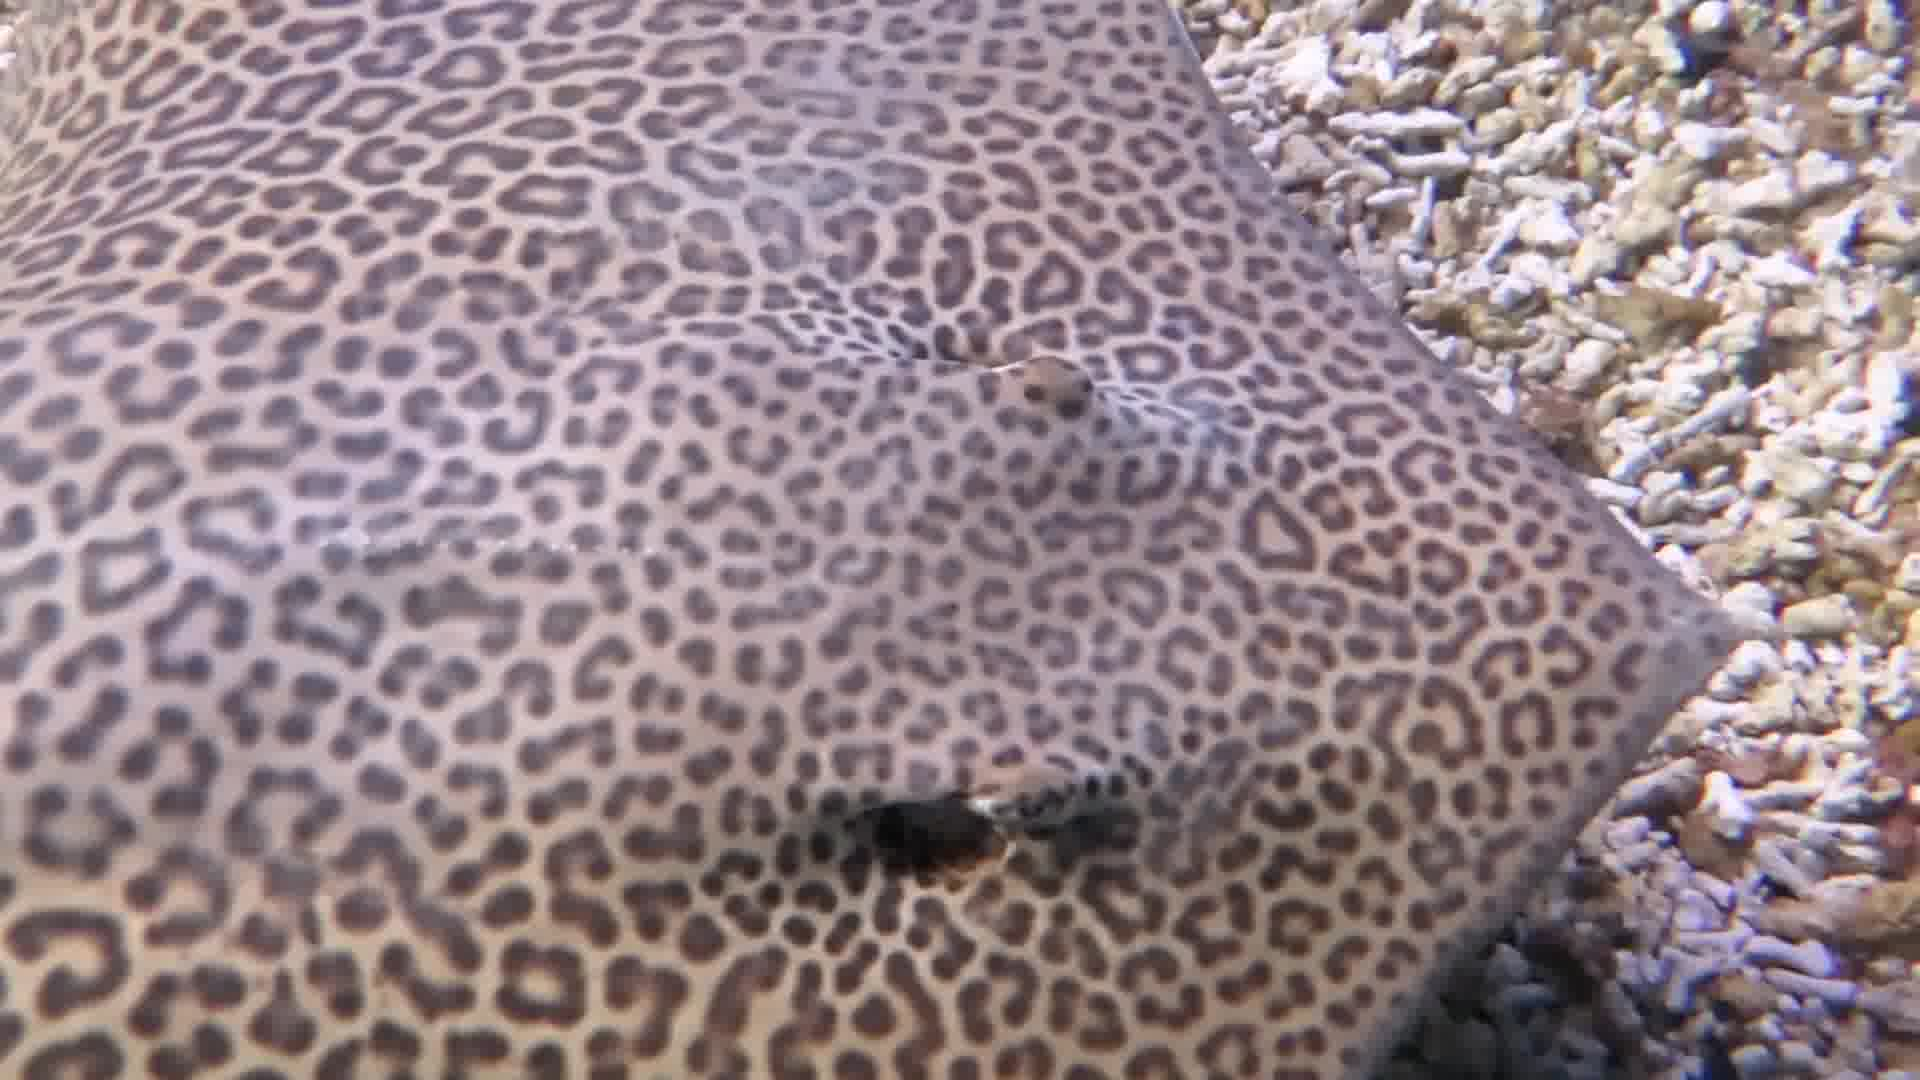Himantura uarnak: (1, 1, 1756, 1080)
